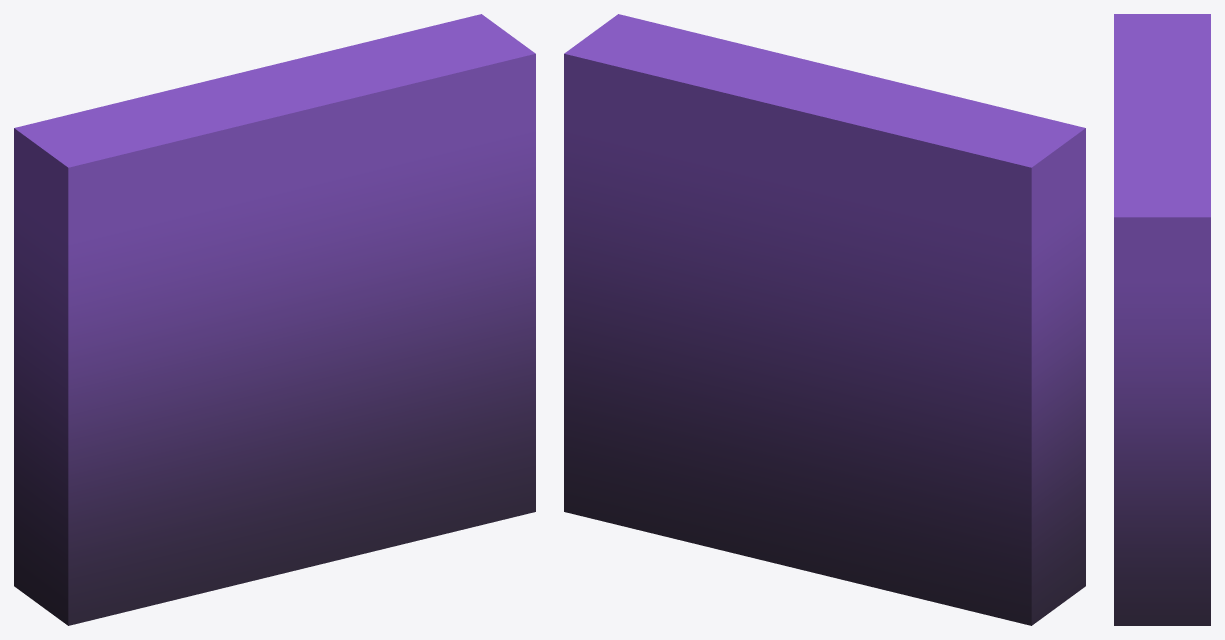
File: Plat01.004.glb
The picture shows the model from 3 angles, left to right: view 1: azimuth 30°, elevation 25°; view 2: azimuth 150°, elevation 25°; view 3: azimuth 270°, elevation 25°; orthographic projection. The views are drawn at different scales.
Visible parts, largest first — view 1: Plat01.004; view 2: Plat01.004; view 3: Plat01.004.
Boxes of the visible parts, x1=… form: Plat01.004: x1=14, y1=14, x2=535, y2=625; Plat01.004: x1=564, y1=14, x2=1085, y2=625; Plat01.004: x1=1114, y1=14, x2=1210, y2=625.
Size of what is drawn, in the model's own units: 9.95 by 9.32 by 2.
Materials: 1 (1 with a texture image).
